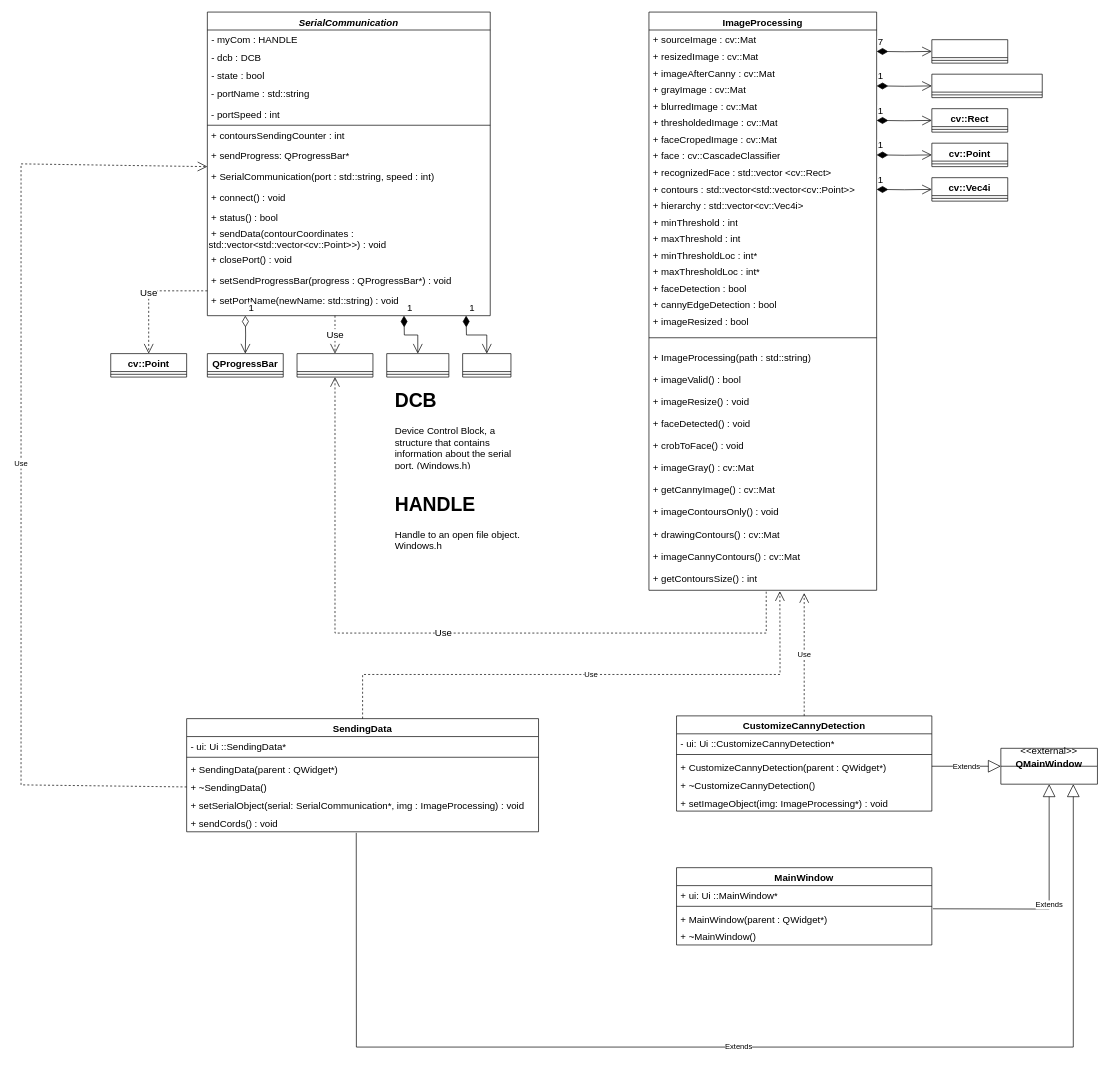
Some shapes in this 1110 by 1072 pixel diagram are drawn without their labels. Each missing label, with the box of its shape:
cv::CascadeClassifier: (931, 73, 1042, 98)
cv::Mat: (931, 39, 1008, 63)
DCB: (462, 353, 511, 377)
HANDLE: (386, 353, 449, 377)
QMessageBox: (296, 353, 373, 377)
